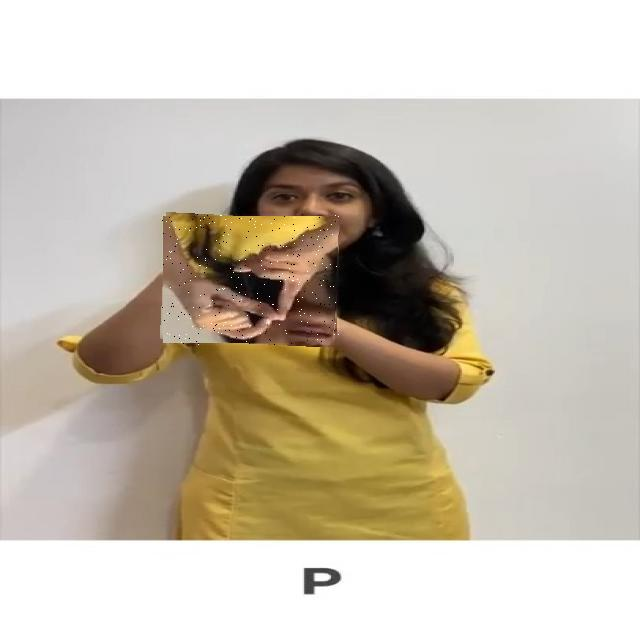P: (162, 214, 339, 345)
